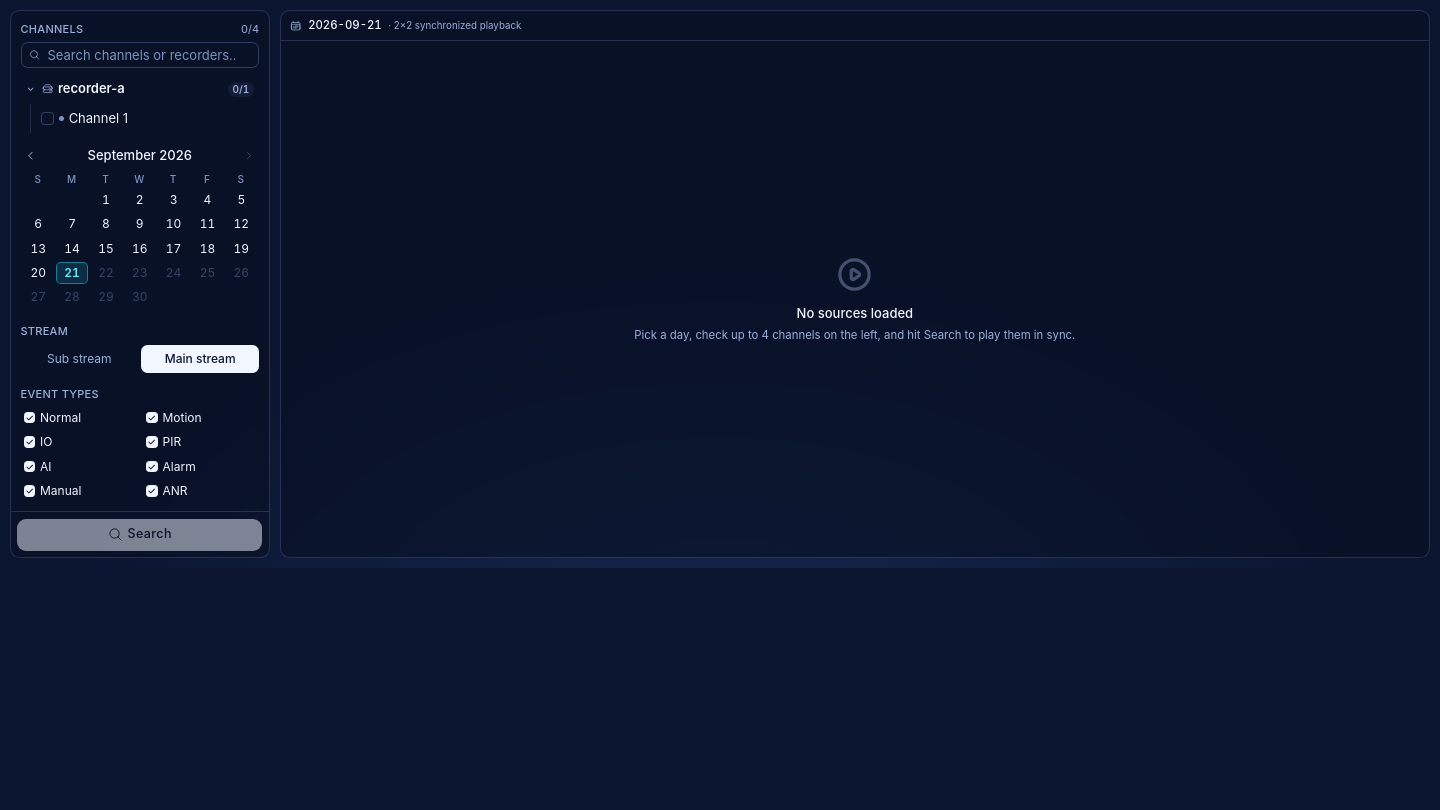
Test case: the channel rail › collapses a recorder so a big estate stays scannable
Expected: the text "Channel 1" is shown, x1=69 y1=110 x2=128 y2=126
Click the button "recorder-a 0/1".
click(140, 89)  # box x1=20 y1=74 x2=259 y2=104
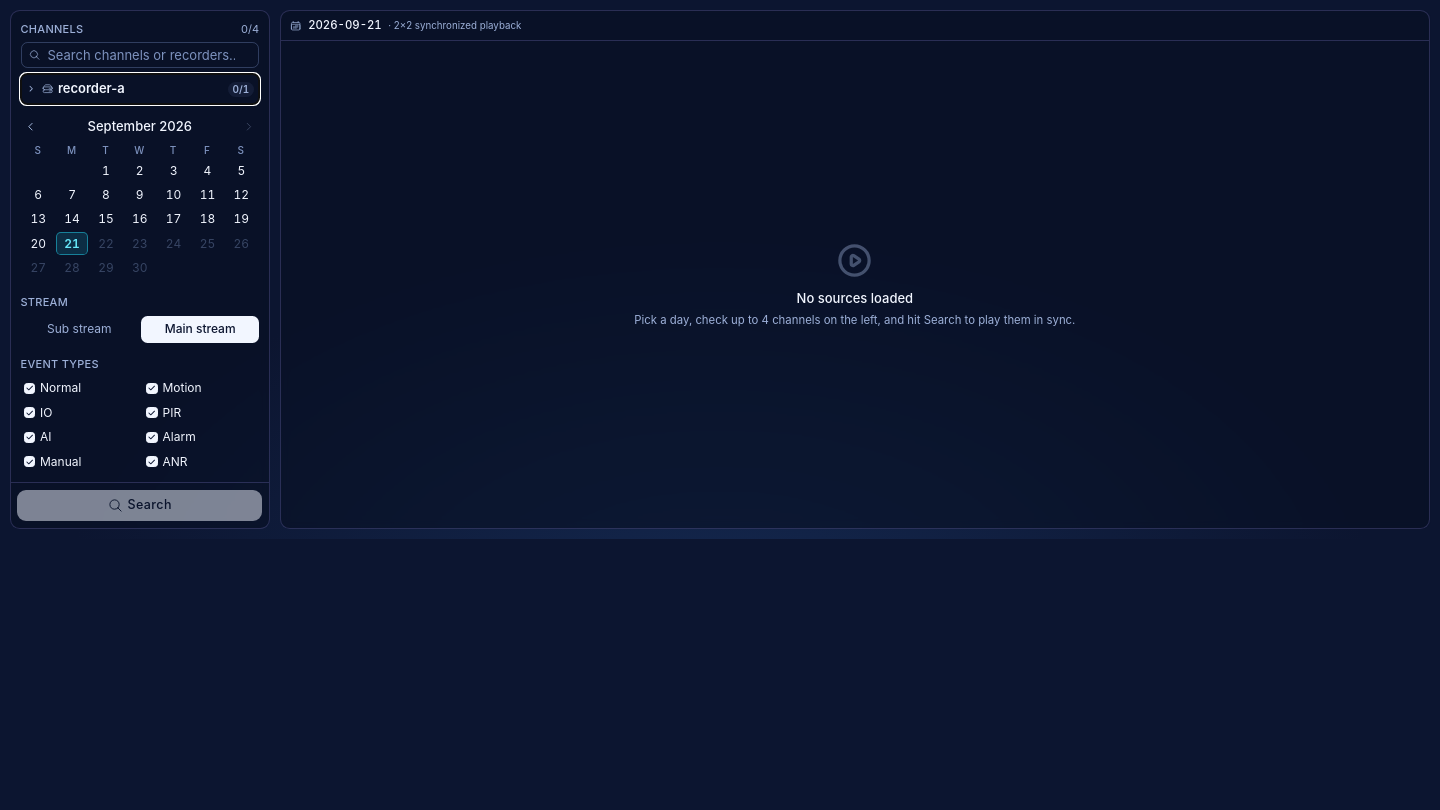
Expected: the text "Channel 1" is gone
